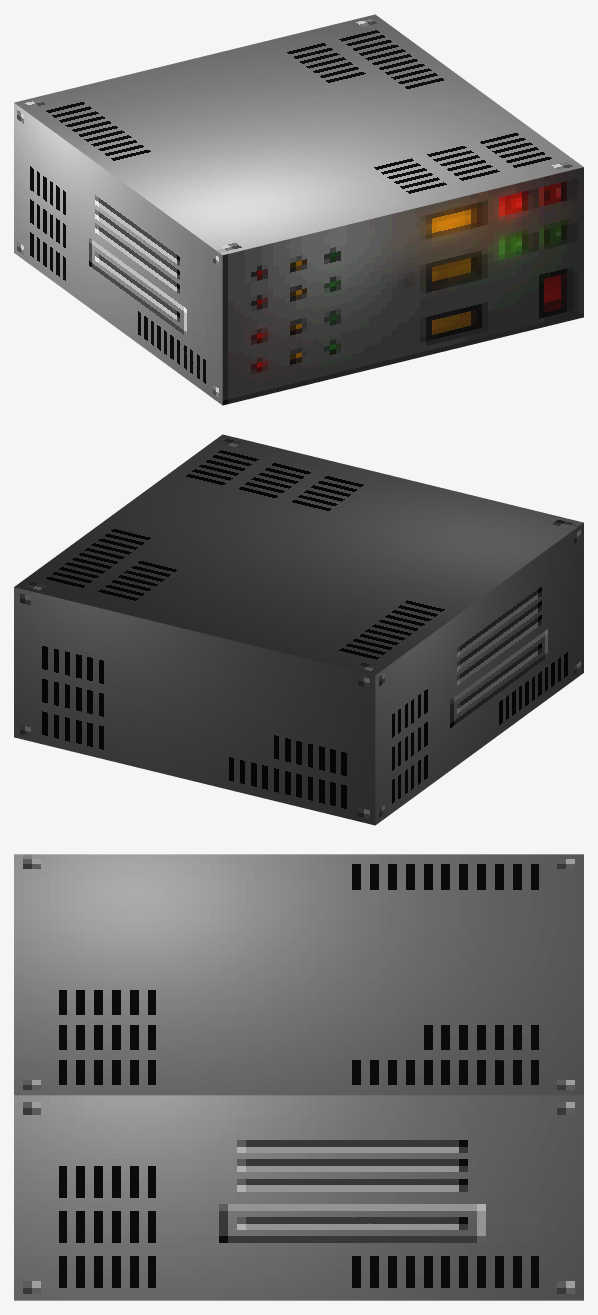
Rendered from Pdisc_readerZ.obj.
3 renders of one model, top to bottom at view 1: azimuth 30°, elevation 25°; view 2: azimuth 150°, elevation 25°; view 3: azimuth 270°, elevation 25°, orthographic. The views are drawn at different scales.
Size of the model in its own units: 292 by 116 by 292.
Materials: 6 (6 with a texture image).
